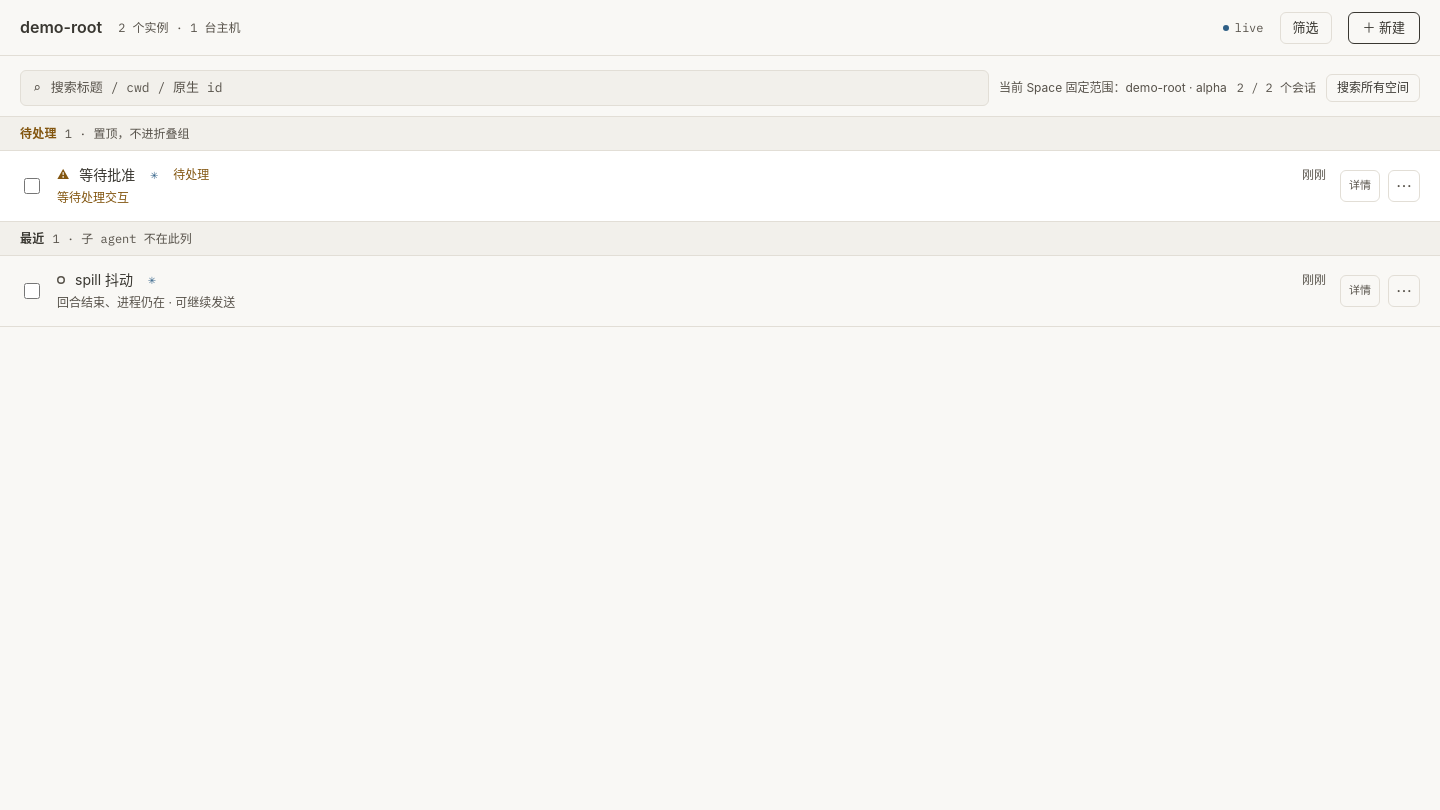
Test: SessionList scope and conditions › withholds host and directory conditions inside a fixed Space, and explains why
The width and height of the screenshot is (1440, 810).
Click the button with test id "session-filter-open" at x=1306, y=28, box [1280,12,1332,44]
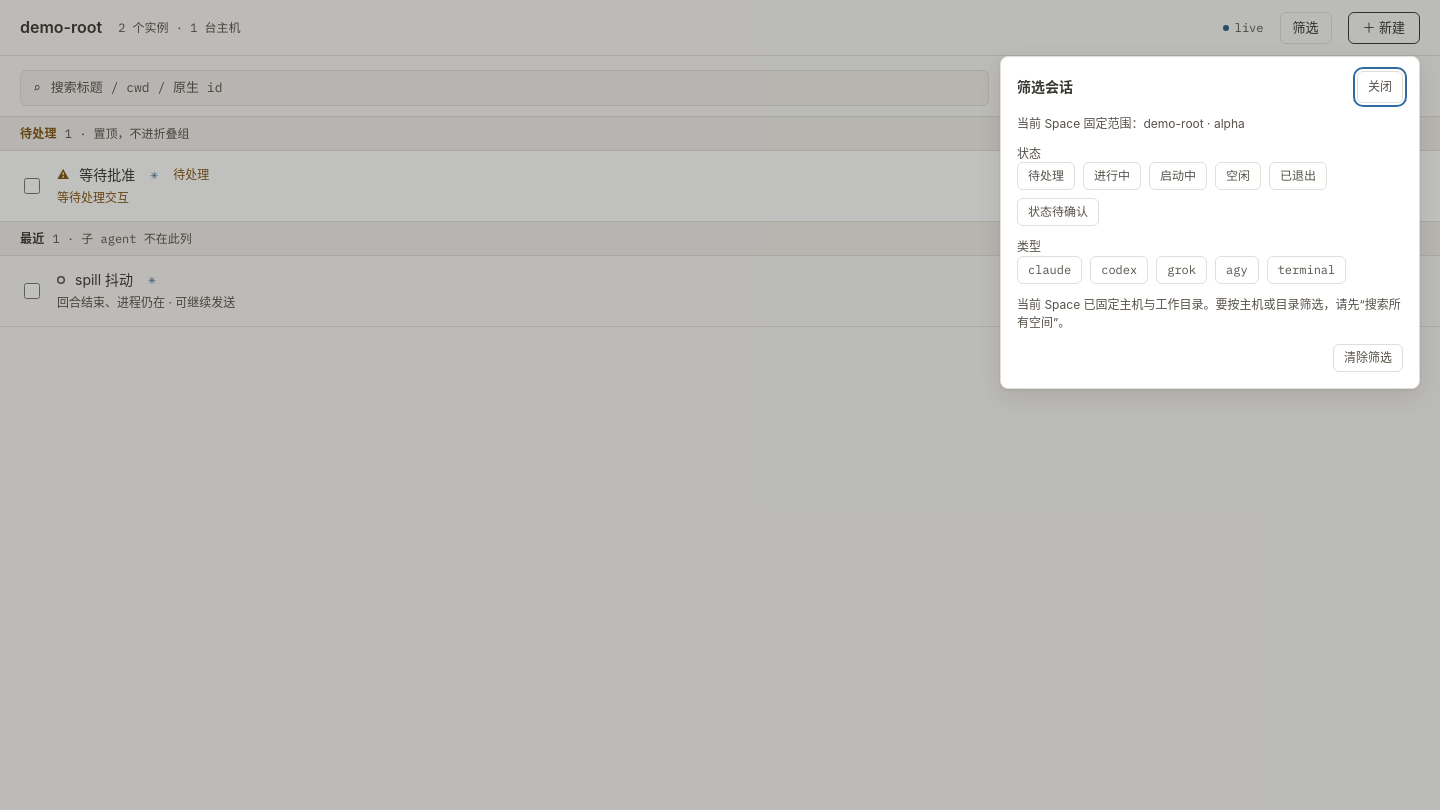
Now the text with test id "session-filter-scope-note" shows "已固定主机与工作目录", box [1017,297,1401,330]
